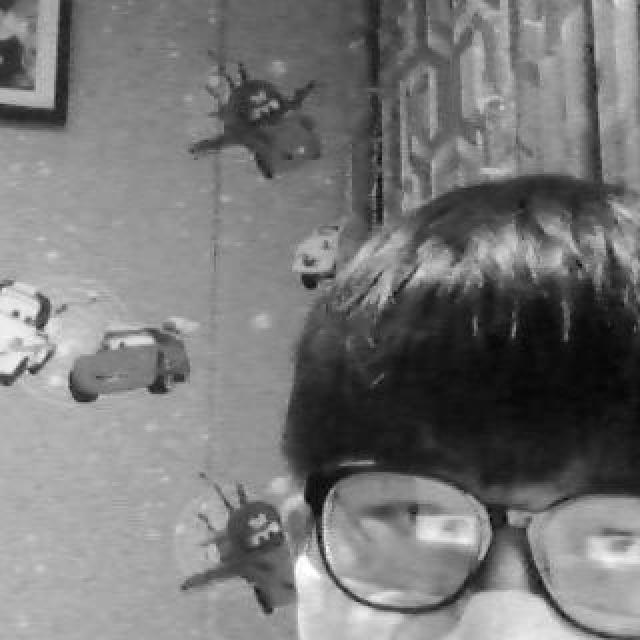Focused: (284, 172, 640, 640)
